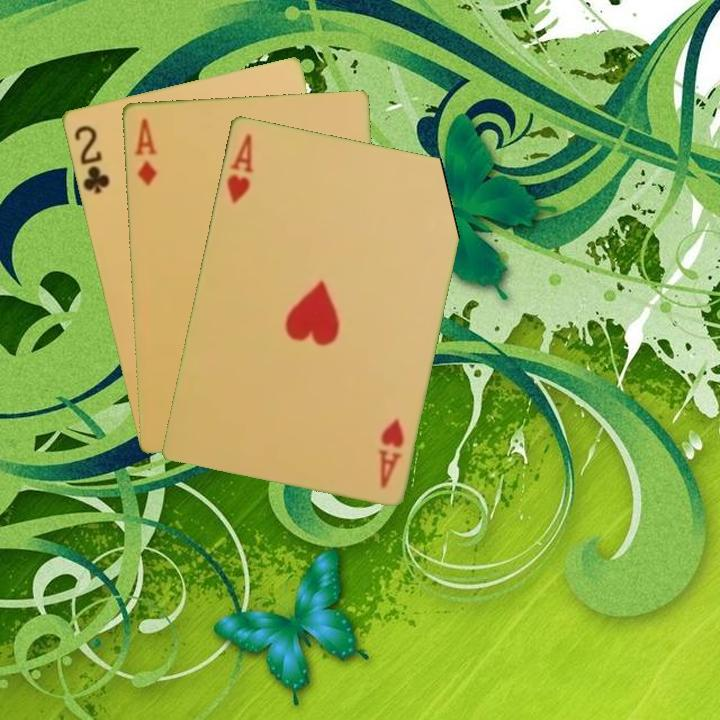2c: (70, 121, 112, 197)
Ad: (130, 114, 160, 189)
Ah: (374, 414, 407, 491), (223, 130, 255, 206)
